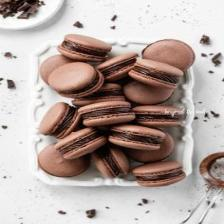brown: (39, 34, 195, 187), (200, 153, 224, 188)
